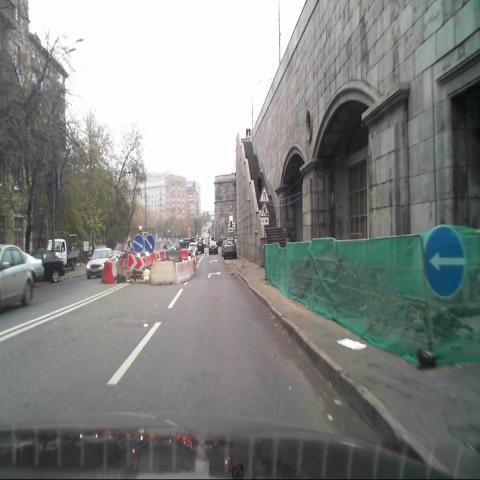1_25: (122, 234, 133, 254)
4_1_2_2: (424, 225, 466, 299)
